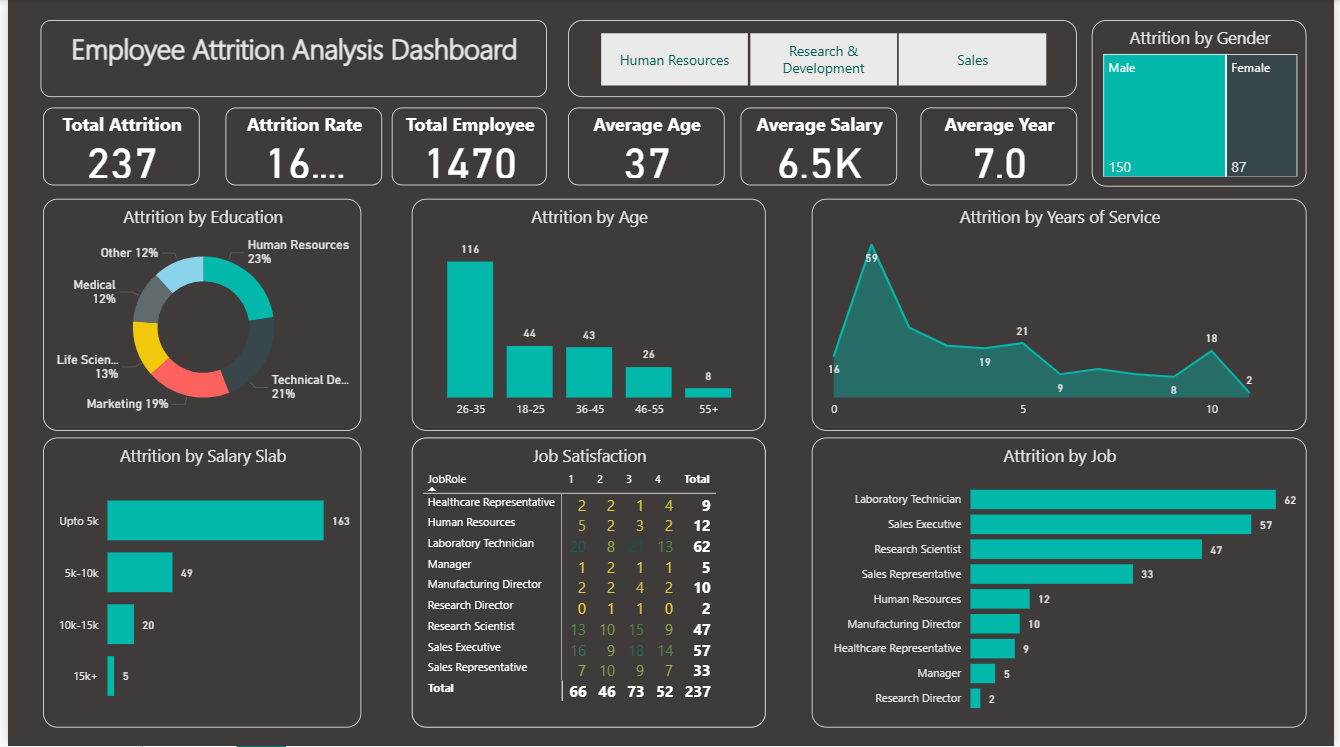

Layout of this report page (visuals, bound fields, positions):
{"tool":"powerbi","page":{"name":"Page 1","canvas":[1280,720],"ordinal":0},"visuals":[{"type":"card","title":"Total Employee","fields":{"Values":["CountNonNull(HR_Analytics.EmpID)"]},"box":[370.5,104.3,149.6,75.5],"z":0},{"type":"card","title":"Total Attrition","fields":{"Values":["Sum(HR_Analytics.Attrition_Count)"]},"box":[34.3,104.3,150.9,75.5],"z":1000},{"type":"card","title":"Attrition Rate","fields":{"Values":["HR_Analytics.Attrition_Rate"]},"box":[209.9,104.3,150.9,75.5],"z":2000},{"type":"card","title":"Average Age","fields":{"Values":["Avg(HR_Analytics.Age)"]},"box":[540.7,104.3,150.9,75.5],"z":3000},{"type":"card","title":"Average Salary","fields":{"Values":["Avg(HR_Analytics.MonthlyIncome)"]},"box":[706.7,104.3,150.9,75.5],"z":4000},{"type":"card","title":"Average Year","fields":{"Values":["Avg(HR_Analytics.YearsAtCompany)"]},"box":[881,104.3,150.9,75.5],"z":5000},{"type":"donutChart","title":"Attrition by Education","fields":{"Category":["HR_Analytics.EducationField"],"Y":["HR_Analytics.Attrition_Rate"]},"box":[34.3,192.1,307.4,223.7],"z":6000},{"type":"columnChart","title":"Attrition by Age","fields":{"Category":["HR_Analytics.AgeGroup"],"Y":["Sum(HR_Analytics.Attrition_Count)"]},"box":[389.7,192.1,341.7,223.7],"z":7000},{"type":"barChart","title":"Attrition by Salary Slab","fields":{"Category":["HR_Analytics.SalarySlab"],"Y":["Sum(HR_Analytics.Attrition_Count)"]},"box":[34.3,422.6,307.4,279.9],"z":8000},{"type":"barChart","title":"Attrition by Job","fields":{"Y":["Sum(HR_Analytics.Attrition_Count)"],"Category":["HR_Analytics.JobRole"]},"box":[775.3,422.6,477.5,279.9],"z":9000},{"type":"areaChart","title":"Attrition by Years of Service","fields":{"Y":["Sum(HR_Analytics.Attrition_Count)"],"Category":["HR_Analytics.YearsAtCompany"]},"box":[775.3,192.1,477.5,223.7],"z":10000},{"type":"pivotTable","title":"Job Satisfaction","fields":{"Values":["Sum(HR_Analytics.Attrition_Count)"],"Columns":["HR_Analytics.JobSatisfaction"],"Rows":["HR_Analytics.JobRole"]},"box":[389.7,422.6,341.7,279.9],"z":11000},{"type":"treemap","title":"Attrition by Gender","fields":{"Values":["Sum(HR_Analytics.Attrition_Count)"],"Group":["HR_Analytics.Gender"]},"box":[1045.6,19.2,207.2,160.5],"z":12000},{"type":"slicer","fields":{"Values":["HR_Analytics.Department"]},"box":[540.7,19.2,491.3,74.1],"z":13000},{"type":"textbox","box":[31.6,19.2,488.5,74.1],"z":14000}]}

Visuals, with their boxes in screenshot pixels (x1, y1, x2, y2), scaled from the page's 1280x720 canvas onto the 1340x747 screenshot:
"Total Employee" card: (388, 108, 544, 187)
"Total Attrition" card: (36, 108, 194, 187)
"Attrition Rate" card: (220, 108, 378, 187)
"Average Age" card: (566, 108, 724, 187)
"Average Salary" card: (740, 108, 898, 187)
"Average Year" card: (922, 108, 1080, 187)
"Attrition by Education" donutChart: (36, 199, 358, 431)
"Attrition by Age" columnChart: (408, 199, 766, 431)
"Attrition by Salary Slab" barChart: (36, 438, 358, 729)
"Attrition by Job" barChart: (812, 438, 1312, 729)
"Attrition by Years of Service" areaChart: (812, 199, 1312, 431)
"Job Satisfaction" pivotTable: (408, 438, 766, 729)
"Attrition by Gender" treemap: (1095, 20, 1312, 186)
slicer - HR_Analytics.Department: (566, 20, 1080, 97)
textbox: (33, 20, 544, 97)
